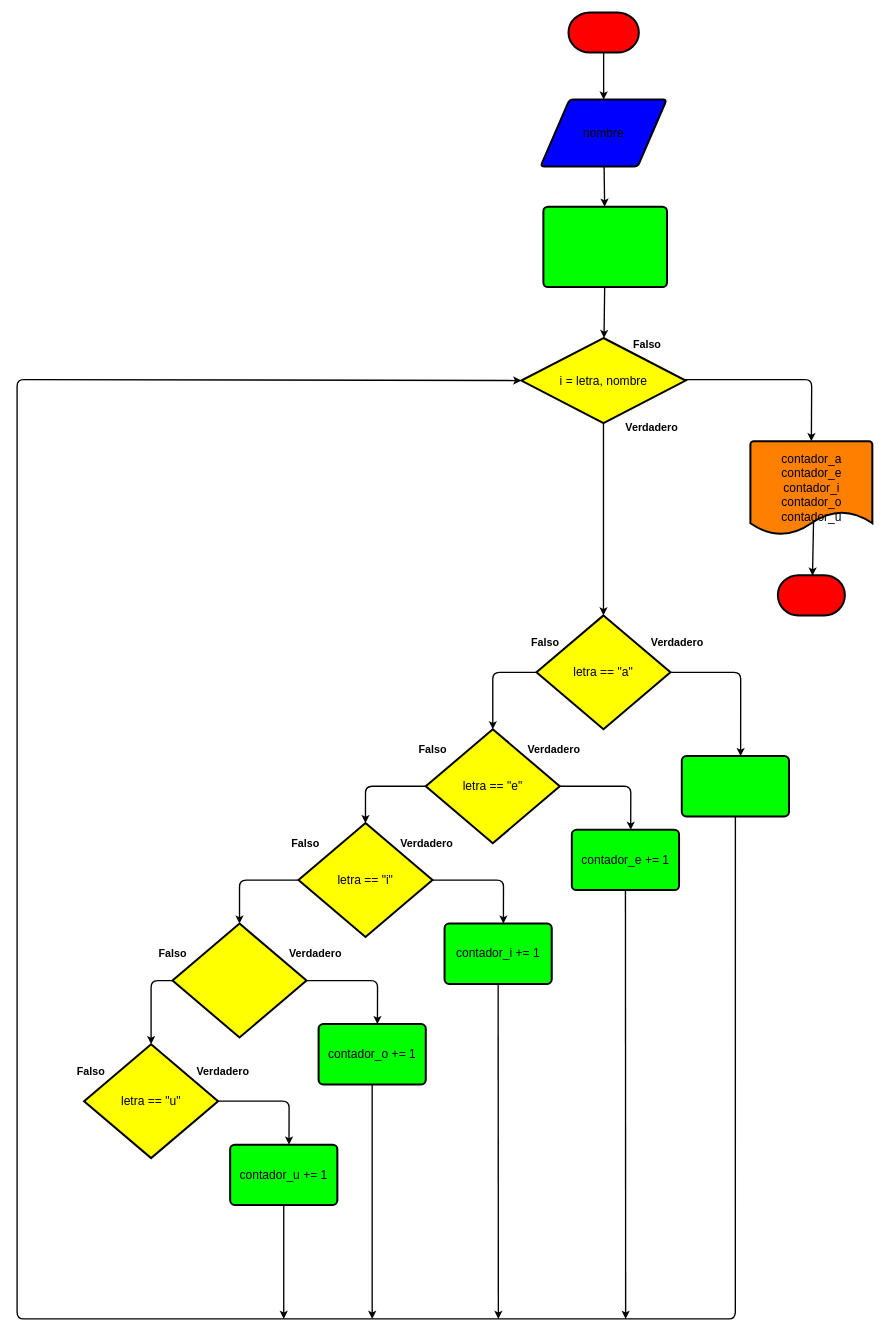
Image size: 884x1337. Some labels were removed from this diagram. The shapes that lost their labels are listed below. From the top down, each one's centre as x and y in pixels, then its label:
point 603,32: INICIO
point 605,246: contador_a = 0 contador_e = 0 contador_i = 0 contador_o = 0 contador_u = 0
point 811,595: FIN
point 735,786: contador_a += 1
point 239,980: letra == "o"
